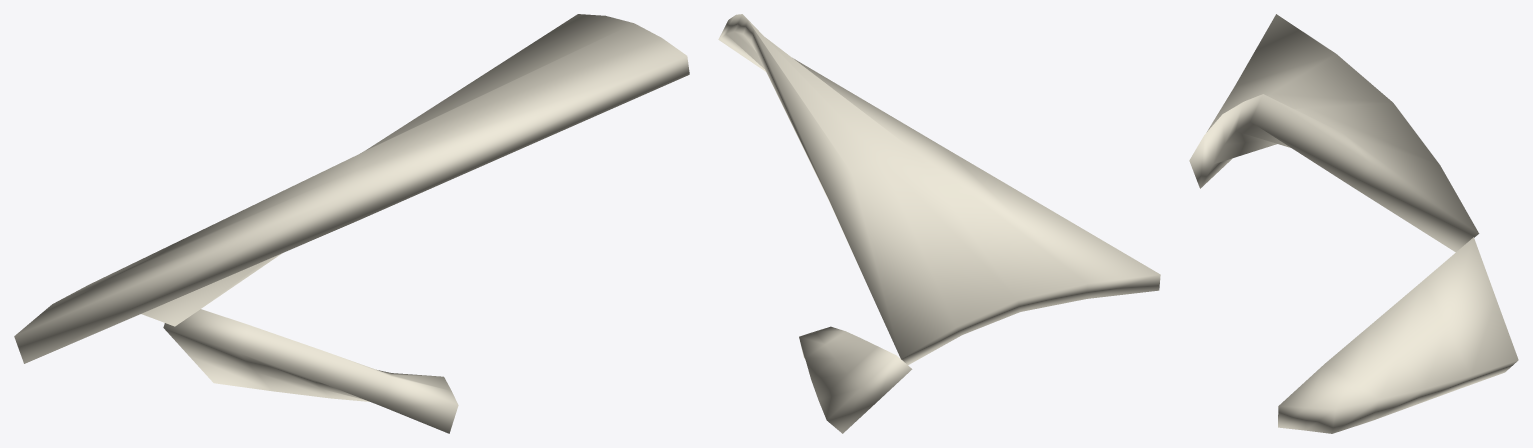
3 renders of one model, left to right at view 1: azimuth 30°, elevation 25°; view 2: azimuth 150°, elevation 25°; view 3: azimuth 270°, elevation 25°, orthographic. The views are drawn at different scales.
Parts seen in each view (by area): view 1: ZA_cceee8f27e09b3b9; view 2: ZA_cceee8f27e09b3b9; view 3: ZA_cceee8f27e09b3b9.
Boxes of the visible parts, bbox=[...] form: ZA_cceee8f27e09b3b9: bbox=[14, 14, 689, 433]; ZA_cceee8f27e09b3b9: bbox=[718, 14, 1160, 433]; ZA_cceee8f27e09b3b9: bbox=[1189, 14, 1518, 433].
Size of the model in its own units: 0.0477 by 0.0286 by 0.0215.
